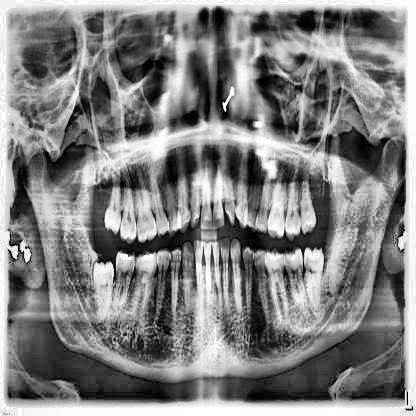Mandible: (19, 131, 408, 383)
Maxilla: (95, 133, 319, 249)
